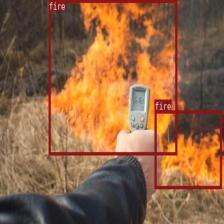fire: (48, 0, 177, 154), (154, 110, 222, 188)
